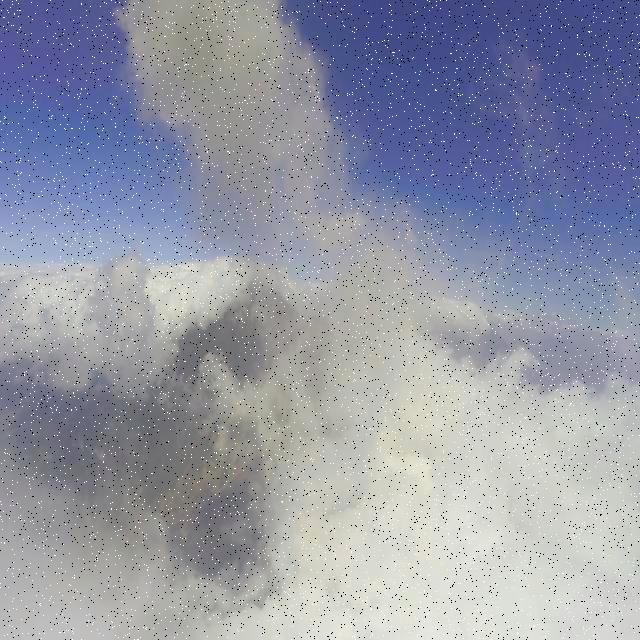Plume: (113, 0, 338, 229)
